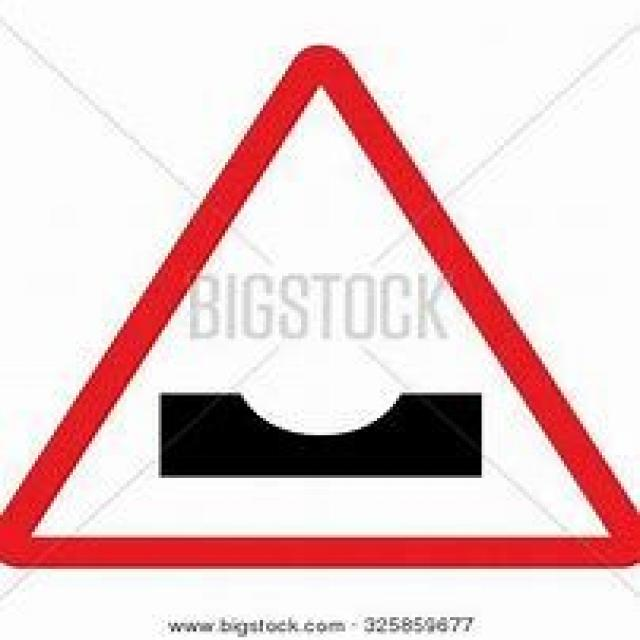DANGEROUS_DIP: (0, 43, 637, 566)
